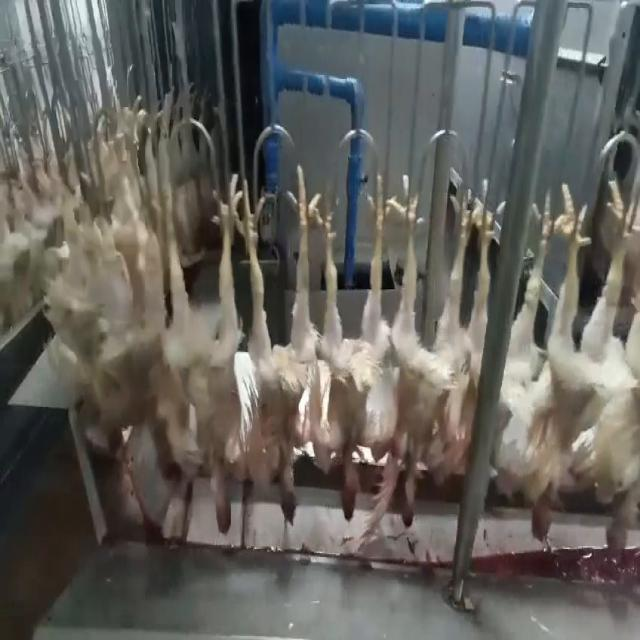chicken: (374, 173, 481, 530), (540, 185, 636, 562), (160, 167, 247, 536), (313, 169, 394, 525), (244, 169, 321, 529), (492, 190, 564, 503), (106, 165, 164, 454)
